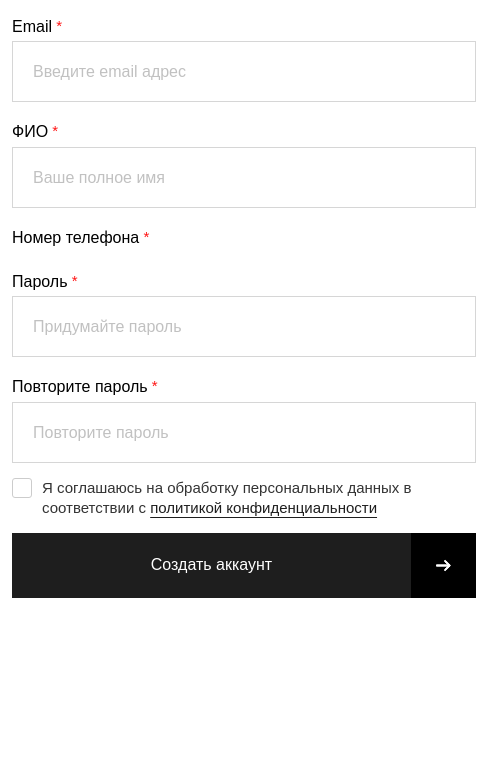
Test case: RegistrationForm › Валидация полей › должен показать ошибку когда пароли не совпадают
The width and height of the screenshot is (493, 775).
In the password field with test id "RegistrationForm.password": (244, 327) [12,296,476,357], type "Password123"
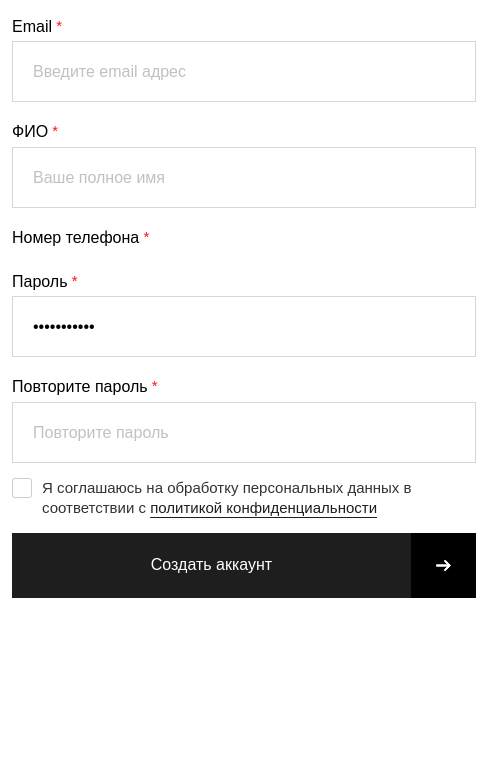
In the password field with test id "RegistrationForm.confirmPassword": (244, 432) [12,402,476,463], type "DifferentPassword123"
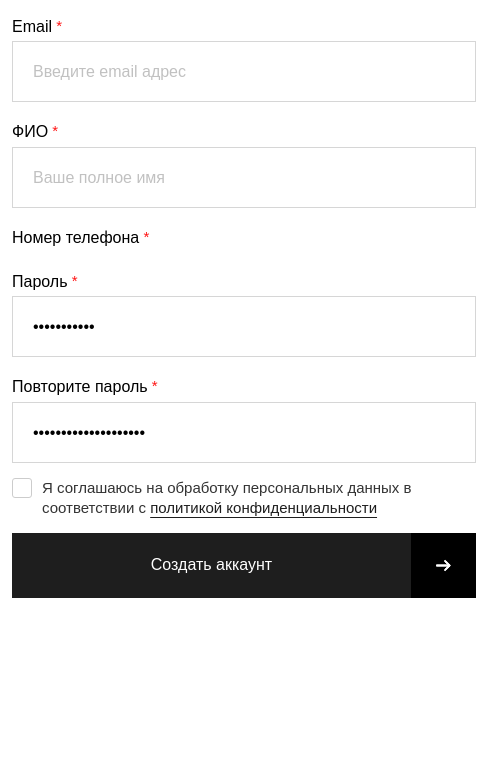
Click the button with test id "RegistrationForm.submitBtn": (244, 565) [12,533,476,598]
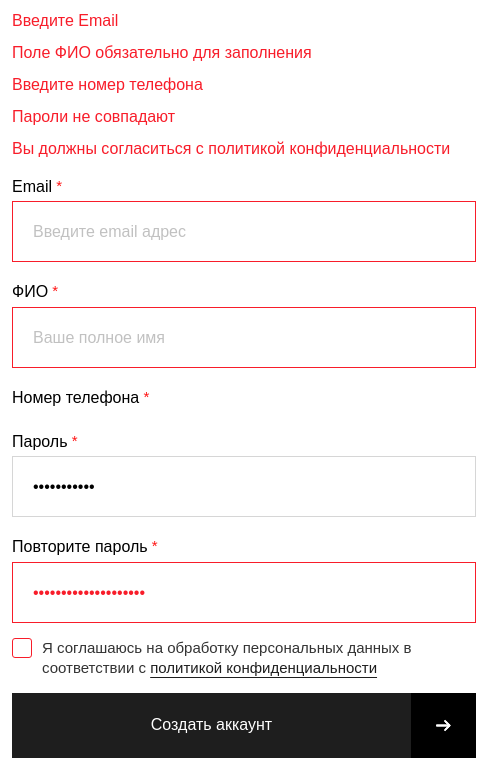
Check: the text "Пароли не совпадают" is shown, box [12,108,175,125]
